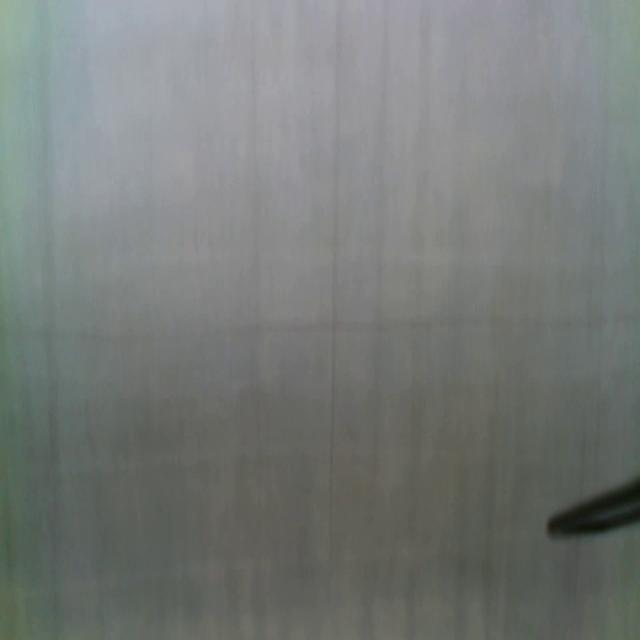color bleeding: (0, 297, 639, 360)
crease: (329, 0, 341, 507)
